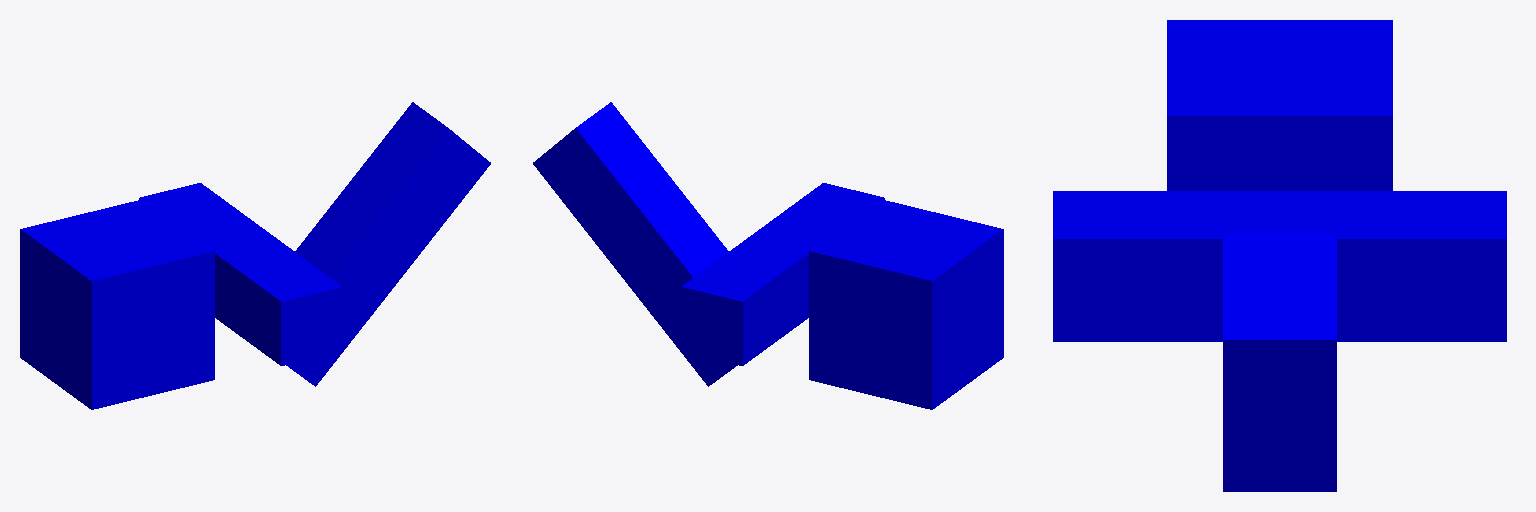
URDF robot description (degree_test):
<?xml version="1.0"?>
<robot name="degree_test">
  <material name="blue">
    <color rgba="0 0 1 1" />
  </material>
  <link name="base">
    <visual>
      <geometry>
        <box size="0.1 0.1 0.1" />
      </geometry>
      <material name="blue" />
    </visual>
    <collision>
      <geometry>
        <box size="0.1 0.1 0.1" />
      </geometry>
    </collision>
  </link>
  <link name="link1">
    <visual>
      <origin rpy="1.5707963267948966 0 0" />
      <geometry>
        <box size="0.05 0.05 0.2" />
      </geometry>
      <material name="blue" />
    </visual>
    <collision>
      <origin rpy="1.5707963267948966 0 0" />
      <geometry>
        <box size="0.05 0.05 0.2" />
      </geometry>
    </collision>
  </link>
  <link name="link2">
    <visual>
      <origin rpy="0.7941248096574199 3.141592653589793 -1.5707963267948966" />
      <geometry>
        <box size="0.05 0.05 0.2" />
      </geometry>
      <material name="blue" />
    </visual>
    <collision>
      <origin rpy="0.7941248096574199 3.141592653589793 -1.5707963267948966" />
      <geometry>
        <box size="0.05 0.05 0.2" />
      </geometry>
    </collision>
  </link>
  <joint name="base_to_link1" type="fixed">
    <parent link="base" />
    <child link="link1" />
    <origin xyz="0.1 0 0" />
  </joint>
  <joint name="base_to_link2" type="fixed">
    <parent link="base" />
    <child link="link2" />
    <origin xyz="0.2 0 0" />
  </joint>
</robot>

--- Facts derived from the render (not from the file) ---
Views: 3 orthographic renders of the robot side by side, from view 1: azimuth 30°, elevation 25°; view 2: azimuth 150°, elevation 25°; view 3: azimuth 270°, elevation 25°.
Model degree_test with 3 links and 2 joints (2 fixed), rooted at base, posed every joint at zero.
Visible links, largest first — view 1: base, link2, link1; view 2: base, link2, link1; view 3: link1, base, link2.
Link boxes in pixels (x1,y1,x2,y2): base: (20, 199, 214, 409); link2: (286, 102, 490, 386); link1: (139, 183, 342, 365); base: (809, 199, 1003, 409); link2: (533, 102, 737, 386); link1: (681, 183, 884, 365); link1: (1053, 191, 1506, 341); base: (1167, 20, 1392, 190); link2: (1223, 233, 1336, 491).
Size in the robot's own frame: 0.3388 by 0.2 by 0.1758 metres.
Geometry: primitives only (box / cylinder / sphere), no mesh files.